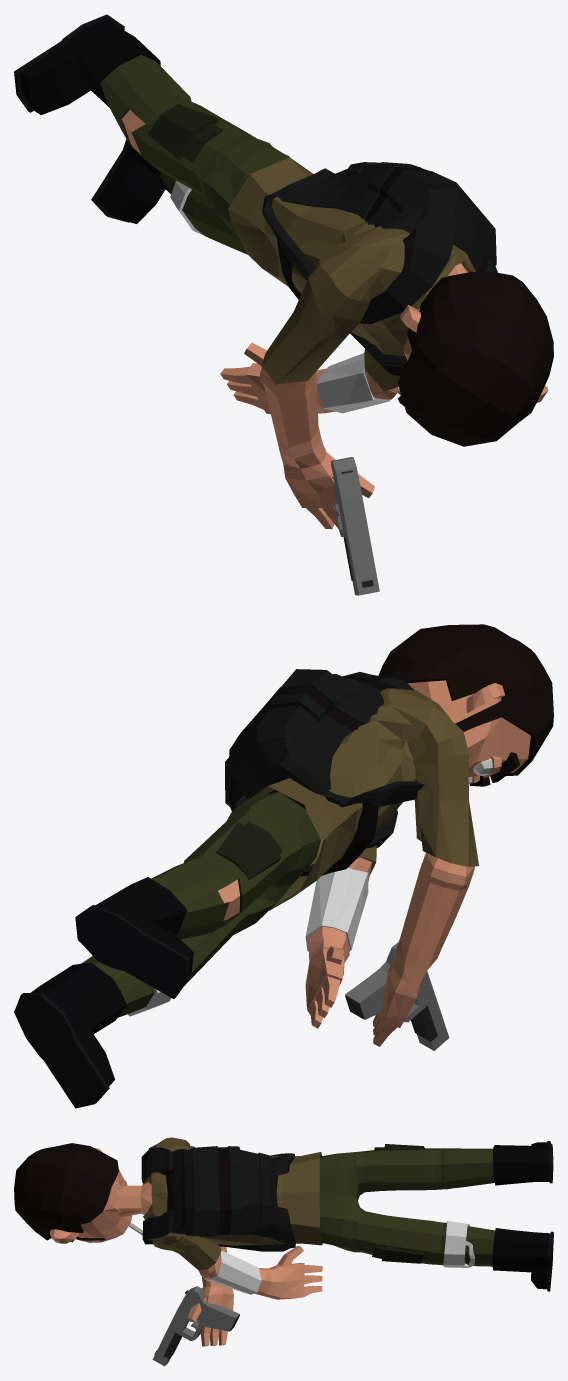
The model's file is frame_0025.obj.
3 renders of one model, top to bottom at view 1: azimuth 30°, elevation 25°; view 2: azimuth 150°, elevation 25°; view 3: azimuth 270°, elevation 25°, orthographic. The views are drawn at different scales.
Parts seen in each view (by area): view 1: Body, Gun; view 2: Body, Gun; view 3: Body, Gun.
Boxes of the visible parts, x1,y1,x2,y2 form: Body: [14, 14, 553, 529]; Gun: [331, 457, 379, 595]; Body: [14, 624, 553, 1108]; Gun: [345, 942, 449, 1050]; Body: [14, 1137, 553, 1346]; Gun: [152, 1286, 239, 1366].
Bounding box in the file's own units: 1.29 × 2.06 × 4.15.
